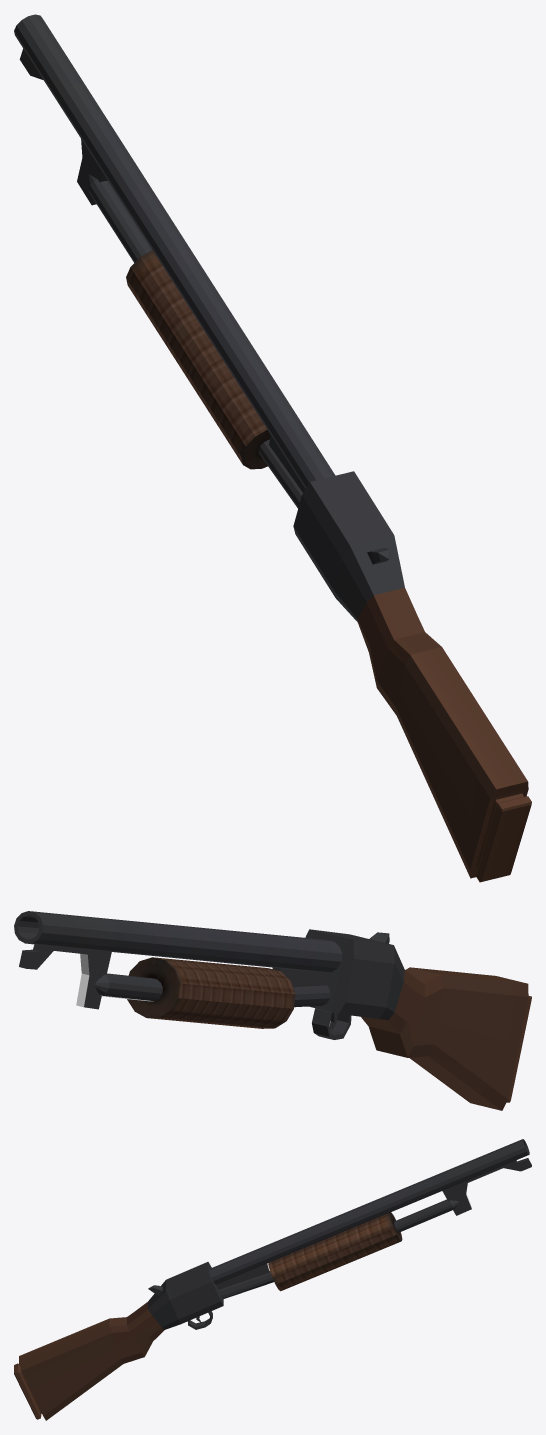
The model's file is shotgun.fbx.
3 views of the same model, one above another, from view 1: azimuth 30°, elevation 25°; view 2: azimuth 150°, elevation 25°; view 3: azimuth 270°, elevation 25° (orthographic). The views are drawn at different scales.
Parts seen in each view (by area): view 1: Cube.001; view 2: Cube.001; view 3: Cube.001.
Boxes of the visible parts, x1=… form: Cube.001: x1=14, y1=14, x2=531, y2=882; Cube.001: x1=14, y1=911, x2=531, y2=1110; Cube.001: x1=14, y1=1139, x2=531, y2=1420.
Size of the model in its own units: 24.49 by 232 by 394.
Materials: 1 (1 with a texture image).
